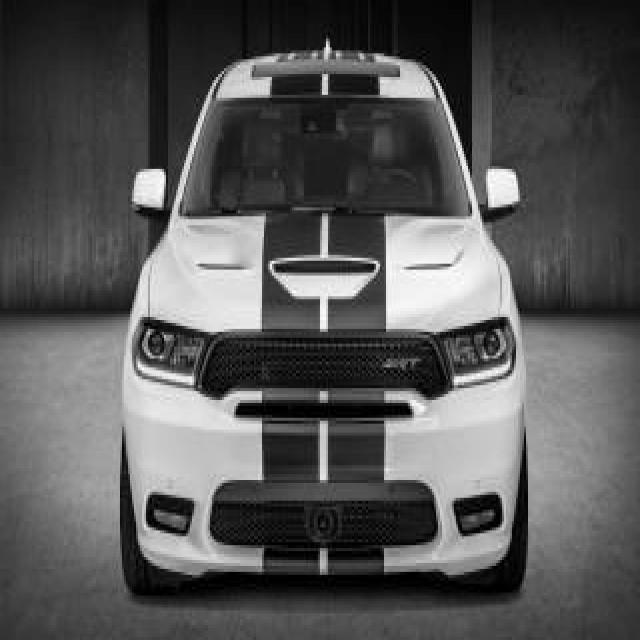Car: (120, 44, 529, 594)
